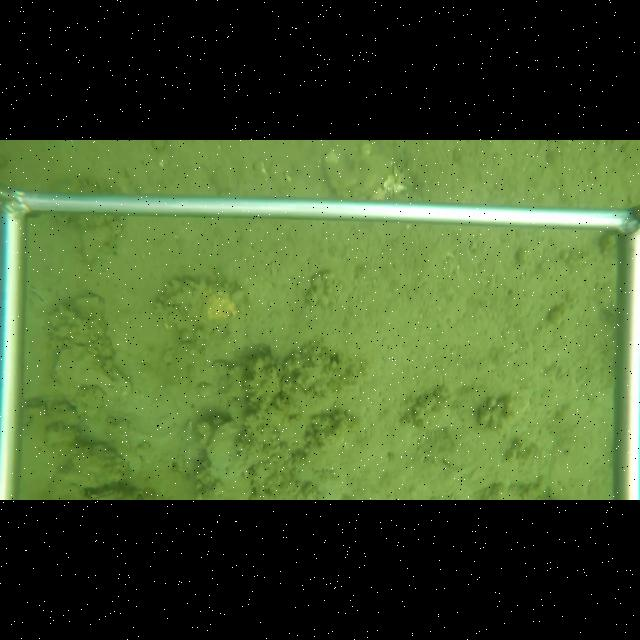Oyster-Closed: (14, 404, 84, 500), (322, 144, 410, 199), (204, 420, 245, 474)
